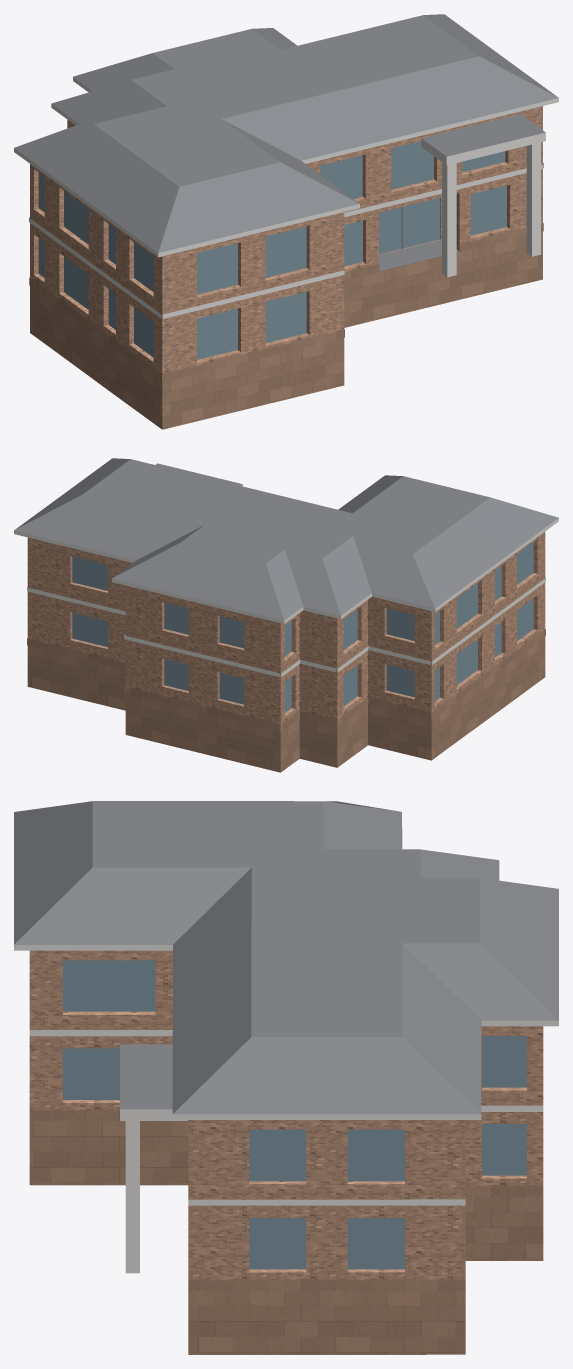
3 renders of one model, top to bottom at view 1: azimuth 30°, elevation 25°; view 2: azimuth 150°, elevation 25°; view 3: azimuth 270°, elevation 25°, orthographic. The views are drawn at different scales.
Parts seen in each view (by area): view 1: gyeryongGwanE20__roof, gyeryongGwanE20__wall, gyeryongGwanE20__base, gyeryongGwanE20__glass, gyeryongGwanE20__trim, gyeryongGwanE20__column; view 2: gyeryongGwanE20__roof, gyeryongGwanE20__wall, gyeryongGwanE20__base, gyeryongGwanE20__glass, gyeryongGwanE20__trim; view 3: gyeryongGwanE20__roof, gyeryongGwanE20__wall, gyeryongGwanE20__base, gyeryongGwanE20__glass, gyeryongGwanE20__trim, gyeryongGwanE20__column.
Part boxes in pixels (left/top/right/bottom): gyeryongGwanE20__roof: left=14, top=14, right=558, bottom=271; gyeryongGwanE20__wall: left=30, top=106, right=542, bottom=381; gyeryongGwanE20__base: left=29, top=223, right=543, bottom=429; gyeryongGwanE20__glass: left=38, top=141, right=506, bottom=359; gyeryongGwanE20__trim: left=14, top=77, right=558, bottom=318; gyeryongGwanE20__column: left=442, top=142, right=540, bottom=277; gyeryongGwanE20__roof: left=14, top=458, right=558, bottom=620; gyeryongGwanE20__wall: left=27, top=532, right=545, bottom=731; gyeryongGwanE20__base: left=27, top=629, right=545, bottom=772; gyeryongGwanE20__glass: left=72, top=542, right=533, bottom=712; gyeryongGwanE20__trim: left=14, top=484, right=558, bottom=677; gyeryongGwanE20__roof: left=14, top=801, right=558, bottom=1272; gyeryongGwanE20__wall: left=29, top=950, right=543, bottom=1280; gyeryongGwanE20__base: left=29, top=1110, right=543, bottom=1354; gyeryongGwanE20__glass: left=63, top=960, right=526, bottom=1269; gyeryongGwanE20__trim: left=14, top=945, right=558, bottom=1205; gyeryongGwanE20__column: left=125, top=1121, right=139, bottom=1273.
Bounding box in the file's own units: 25.04 × 11.24 × 19.07.
8 materials, 2 textured.
